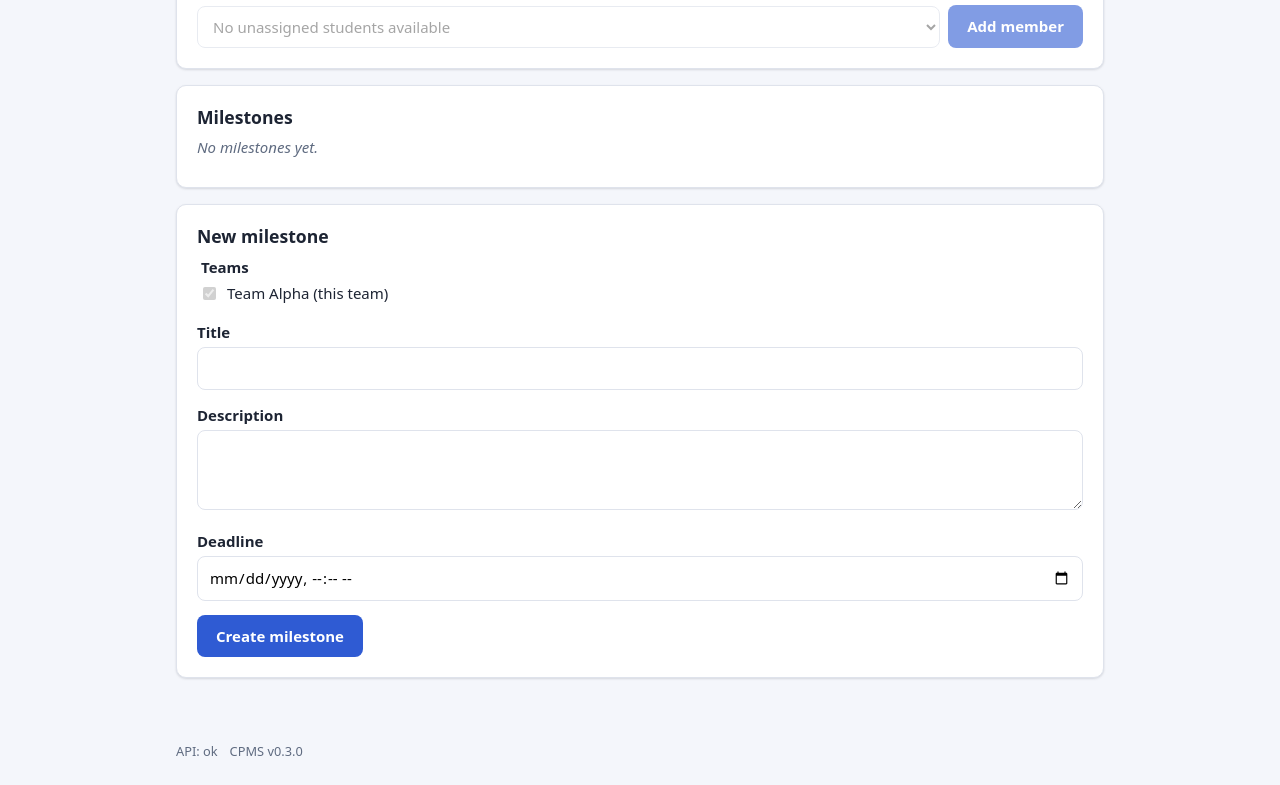
Test: Defect #90 UI rejection messages (NFR-12) › TEST-90-UI03: F-02 SupervisorTeam New milestone renders 'Contains an unsupported character' instead of INVALID_CHARACTER
This screenshot has width=1280, height=785.
(page scrolled)
Check: the heading "New milestone" is shown, box [197,224,329,248]
Click the button "Create milestone" at (280, 636), box [197,615,363,657]
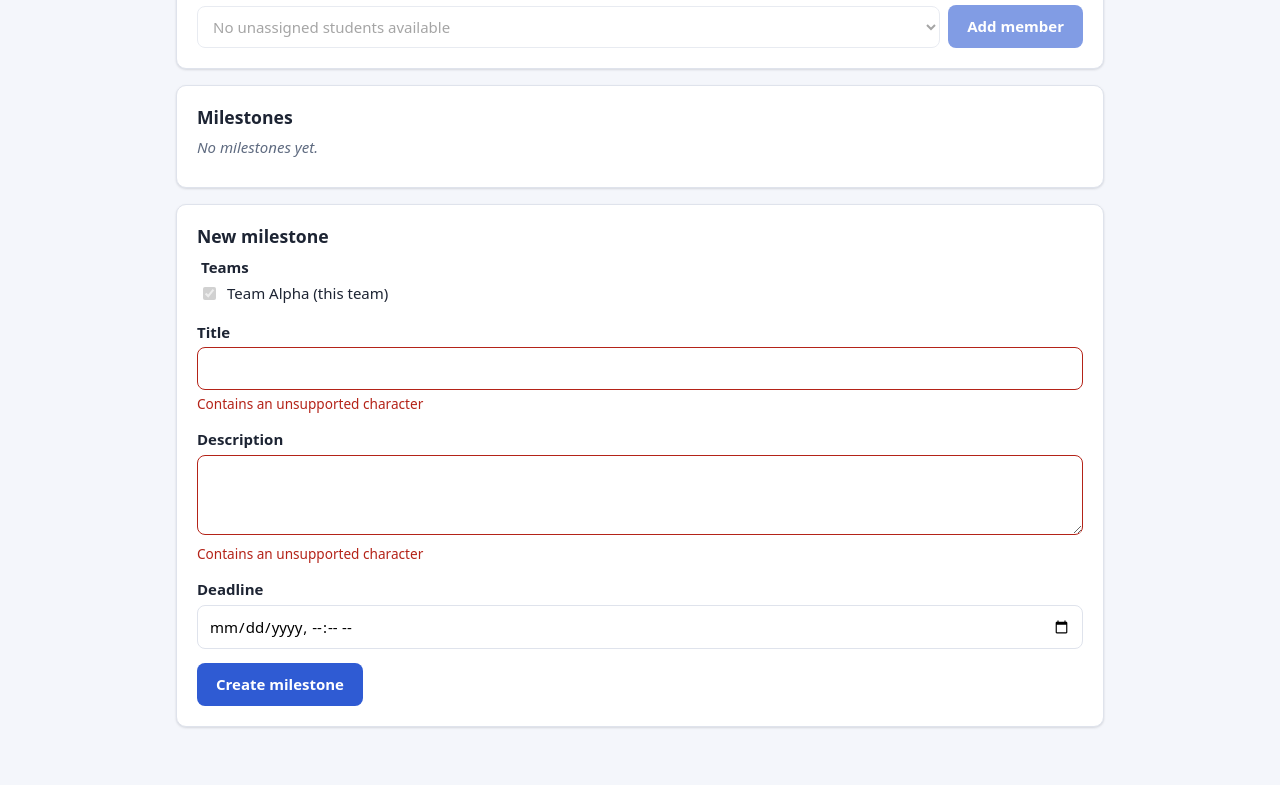
Check: the text "Contains an unsupported character" is shown 2 times, box [197,394,423,413]; [197,544,423,563]
